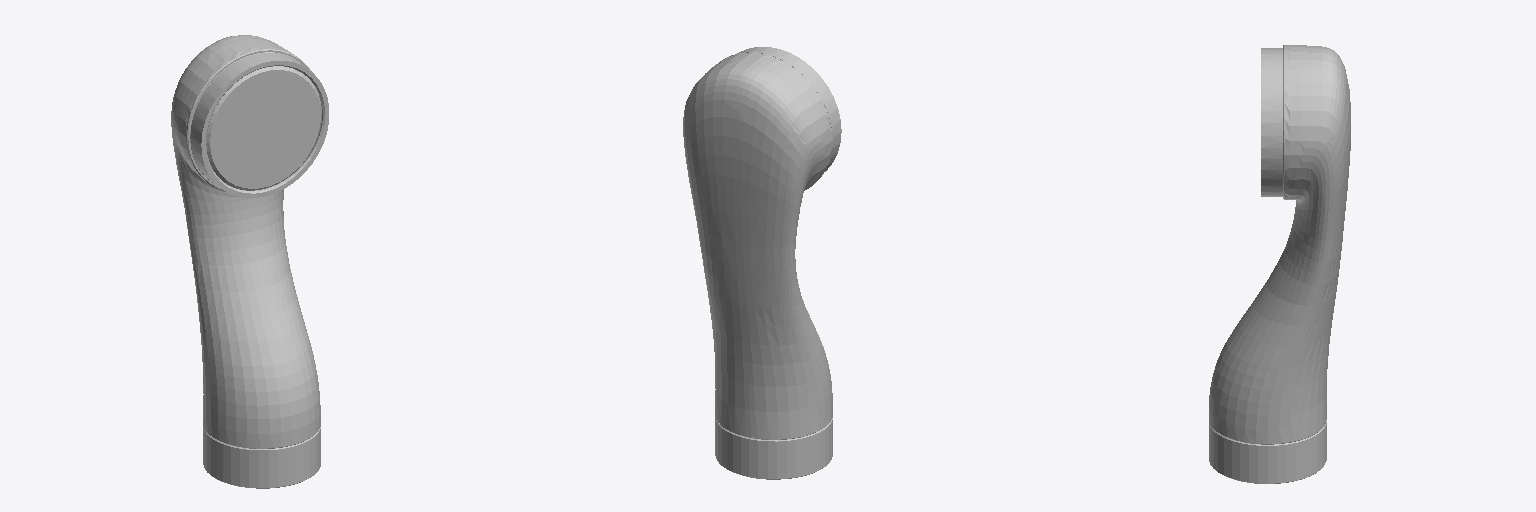
Rendered from forearm_link_visuals_mesh_0.obj.
3 renders of one model, left to right at view 1: azimuth 30°, elevation 25°; view 2: azimuth 150°, elevation 25°; view 3: azimuth 270°, elevation 25°, orthographic.
Size of the model in its own units: 0.092 by 0.2669 by 0.0846.